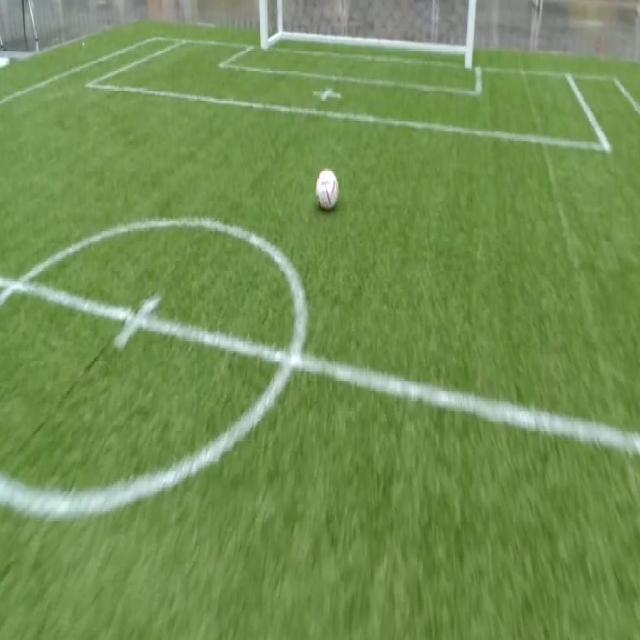ball: (316, 169, 339, 210)
goalpost: (258, 8, 272, 54), (462, 35, 475, 73)
